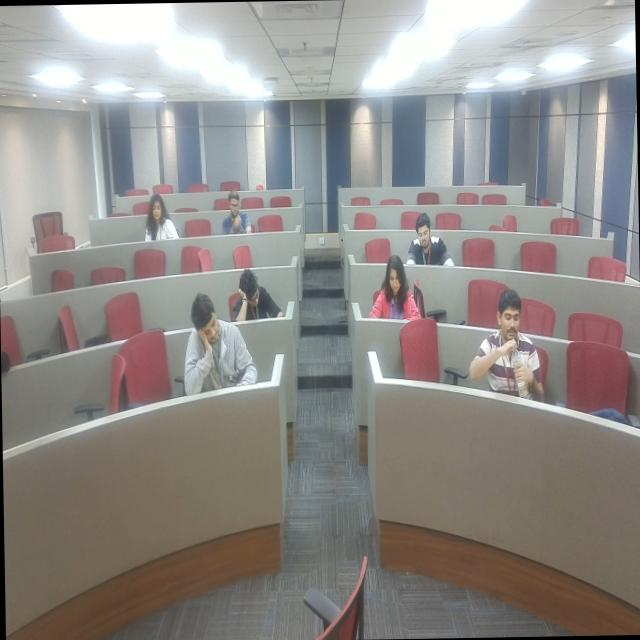non-cheating: (474, 288, 547, 416)
